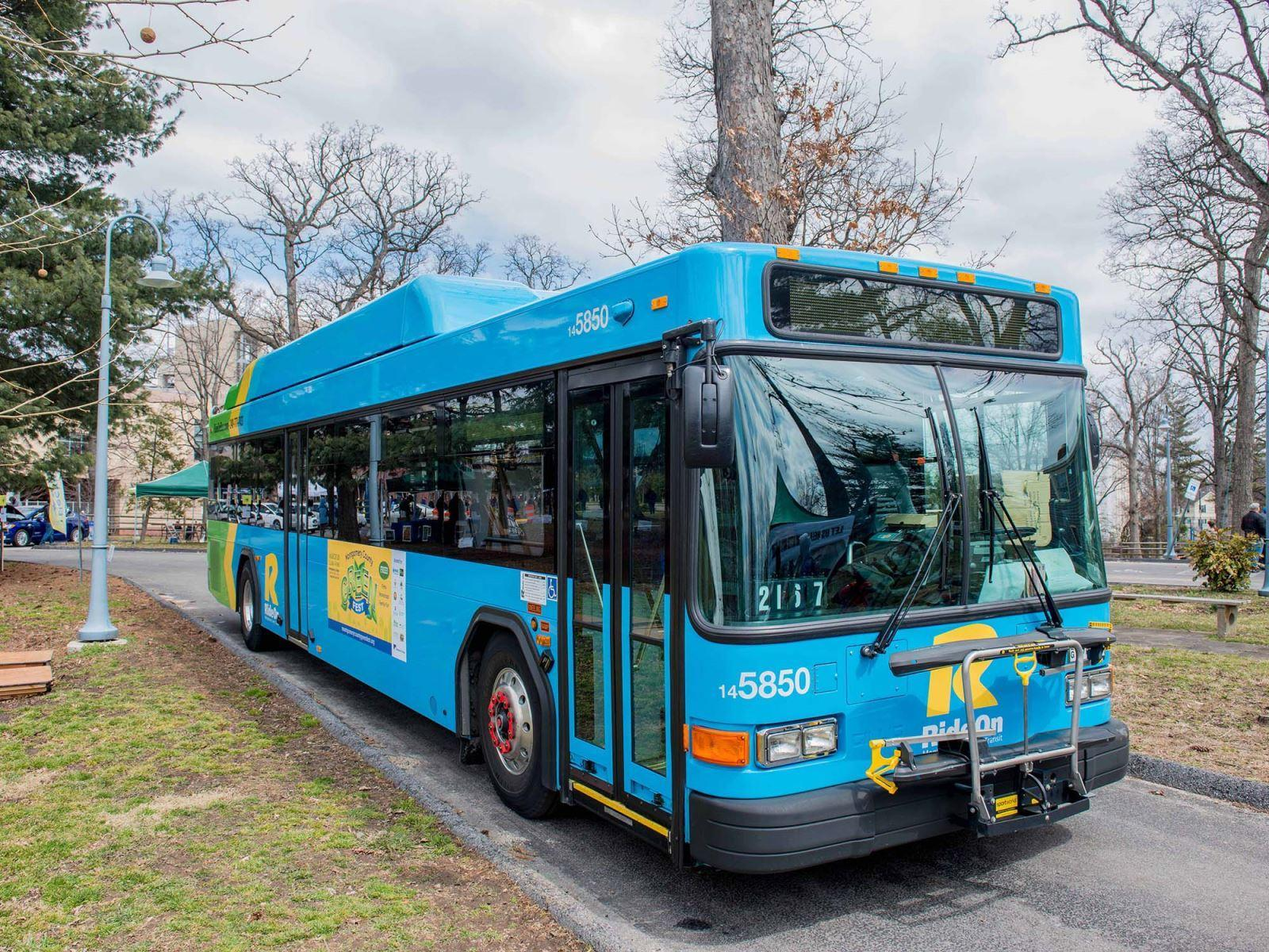Bus: (201, 242, 1130, 880)
